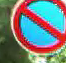No waiting: (8, 0, 65, 55)
